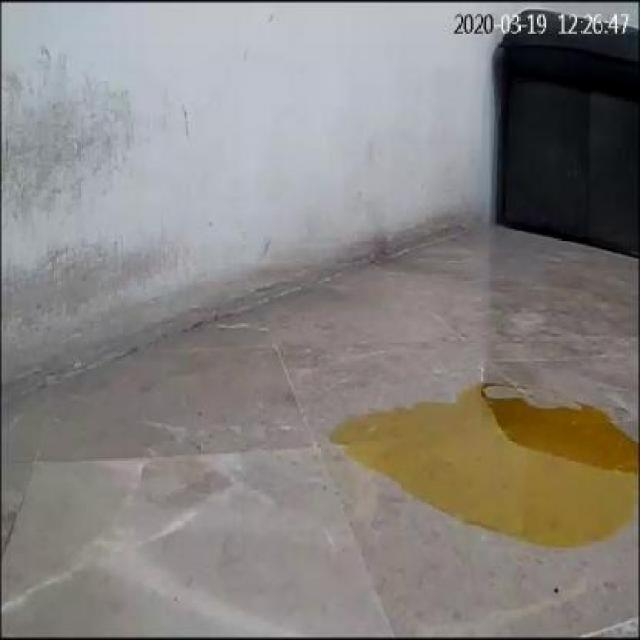spill: (324, 388, 636, 546)
